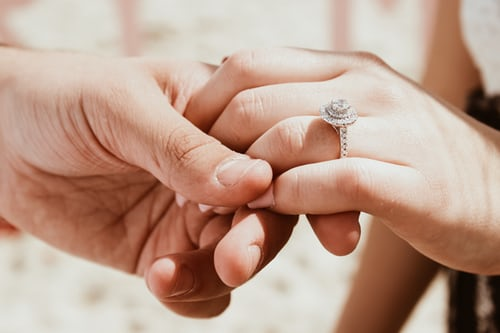ring: (313, 95, 374, 163)
